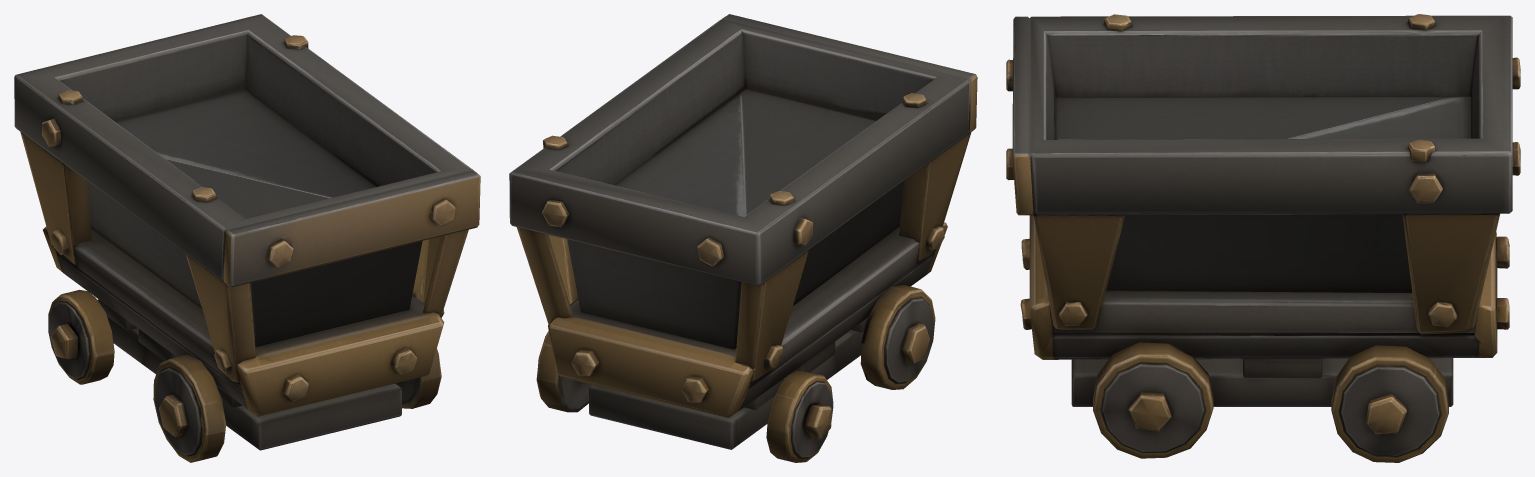
The model's file is ore_cart.glb.
3 renders of one model, left to right at view 1: azimuth 30°, elevation 25°; view 2: azimuth 150°, elevation 25°; view 3: azimuth 270°, elevation 25°, orthographic. The views are drawn at different scales.
Parts seen in each view (by area): view 1: ore_cart; view 2: ore_cart; view 3: ore_cart.
Part boxes in pixels (x1,y1,x2,y2): ore_cart: [14, 14, 480, 462]; ore_cart: [509, 14, 977, 462]; ore_cart: [1006, 14, 1520, 462].
Size of the model in its own units: 0.6289 by 0.6077 by 0.9001.
Materials: 1 (1 with a texture image).
